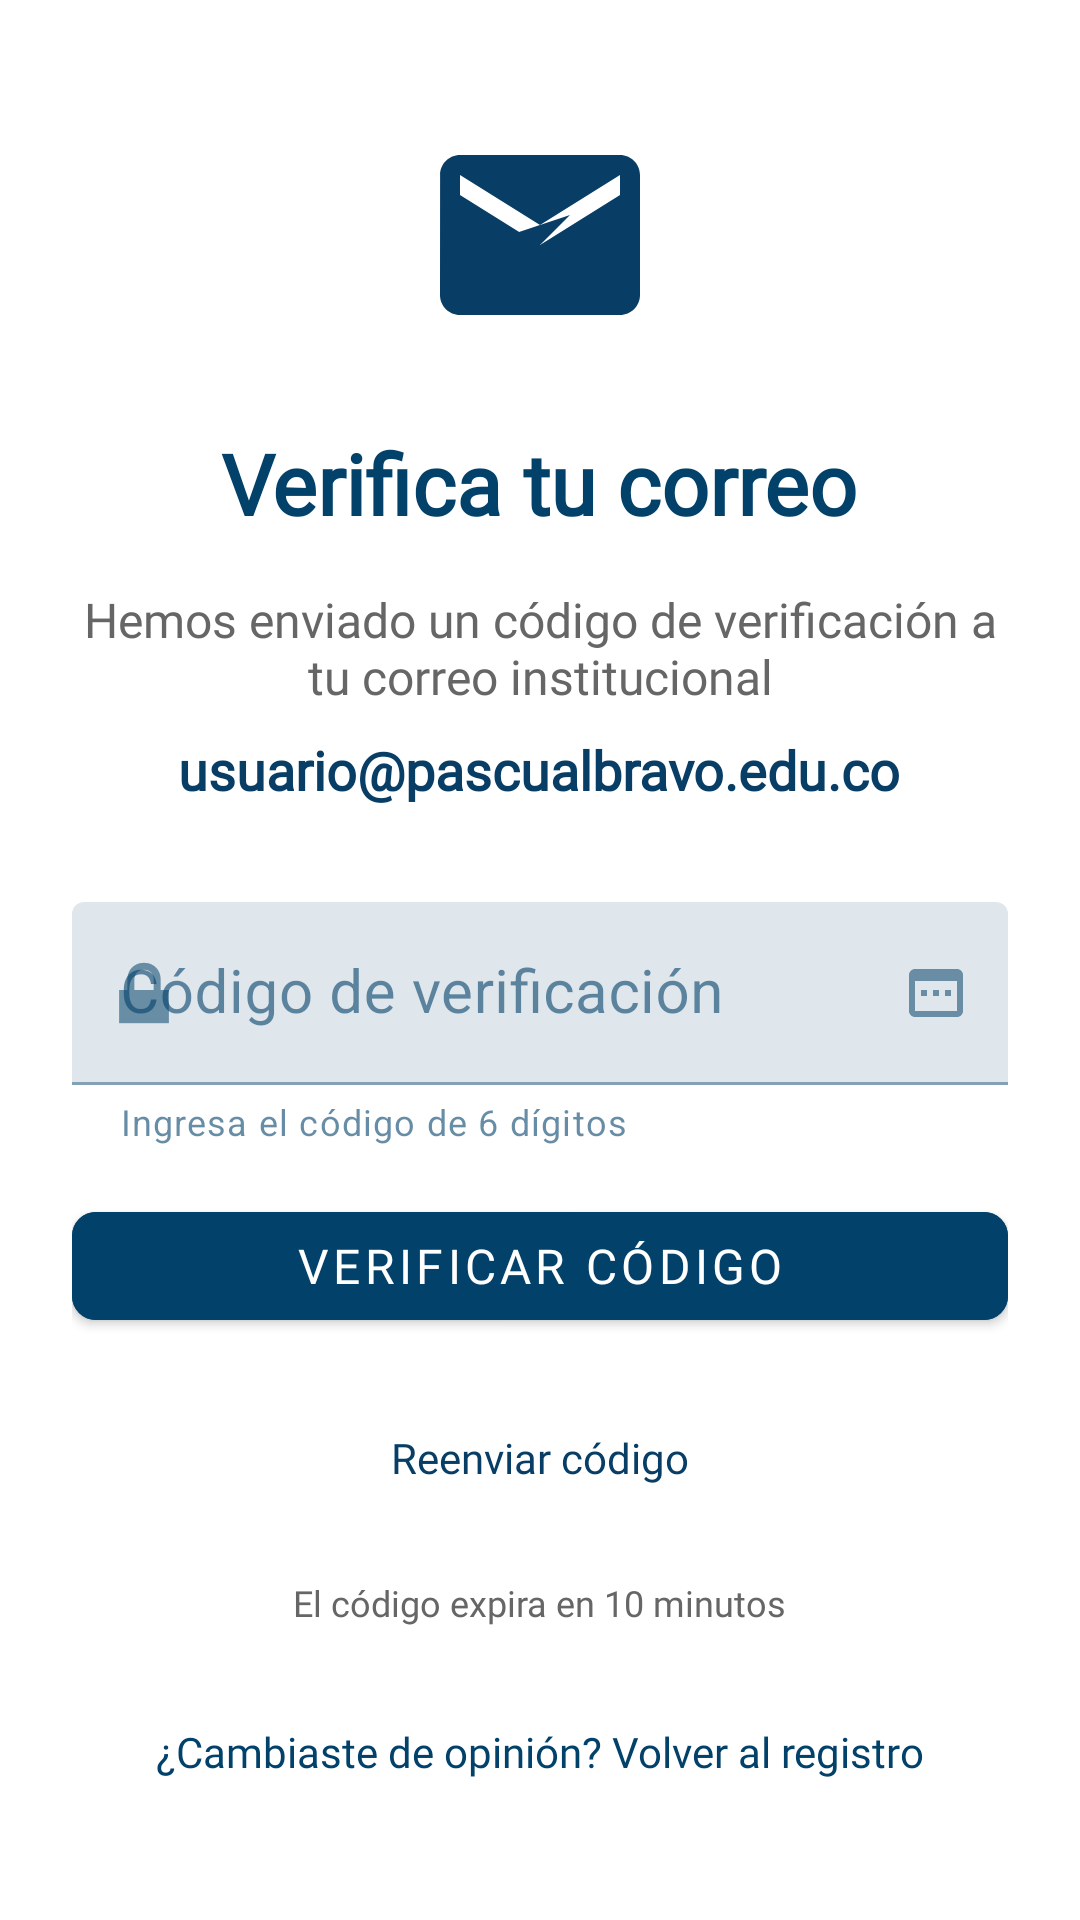

Named icons in this screenshot (1080x1920) and their centers, point (x, y):
Verificación de email: point (540, 235)
